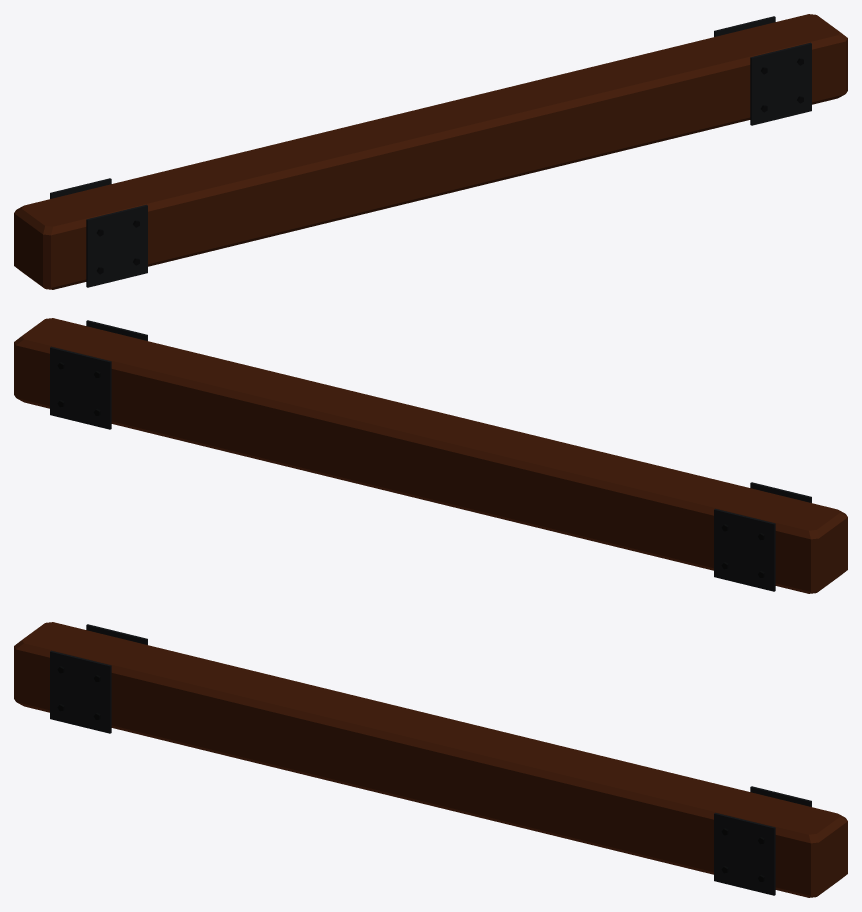
File: SM_Bld_Beam_4m.glb
3 views of the same model, one above another, from view 1: azimuth 30°, elevation 25°; view 2: azimuth 150°, elevation 25°; view 3: azimuth 330°, elevation 25° (orthographic).
Visible parts, largest first — view 1: SM_Bld_Beam_4m; view 2: SM_Bld_Beam_4m; view 3: SM_Bld_Beam_4m.
Part boxes in pixels (x1=…): SM_Bld_Beam_4m: x1=14, y1=14, x2=847, y2=289; SM_Bld_Beam_4m: x1=14, y1=318, x2=847, y2=593; SM_Bld_Beam_4m: x1=14, y1=622, x2=847, y2=897.
Bounding box in the file's own units: 4 × 0.32 × 0.348.
1 material, 1 textured.
